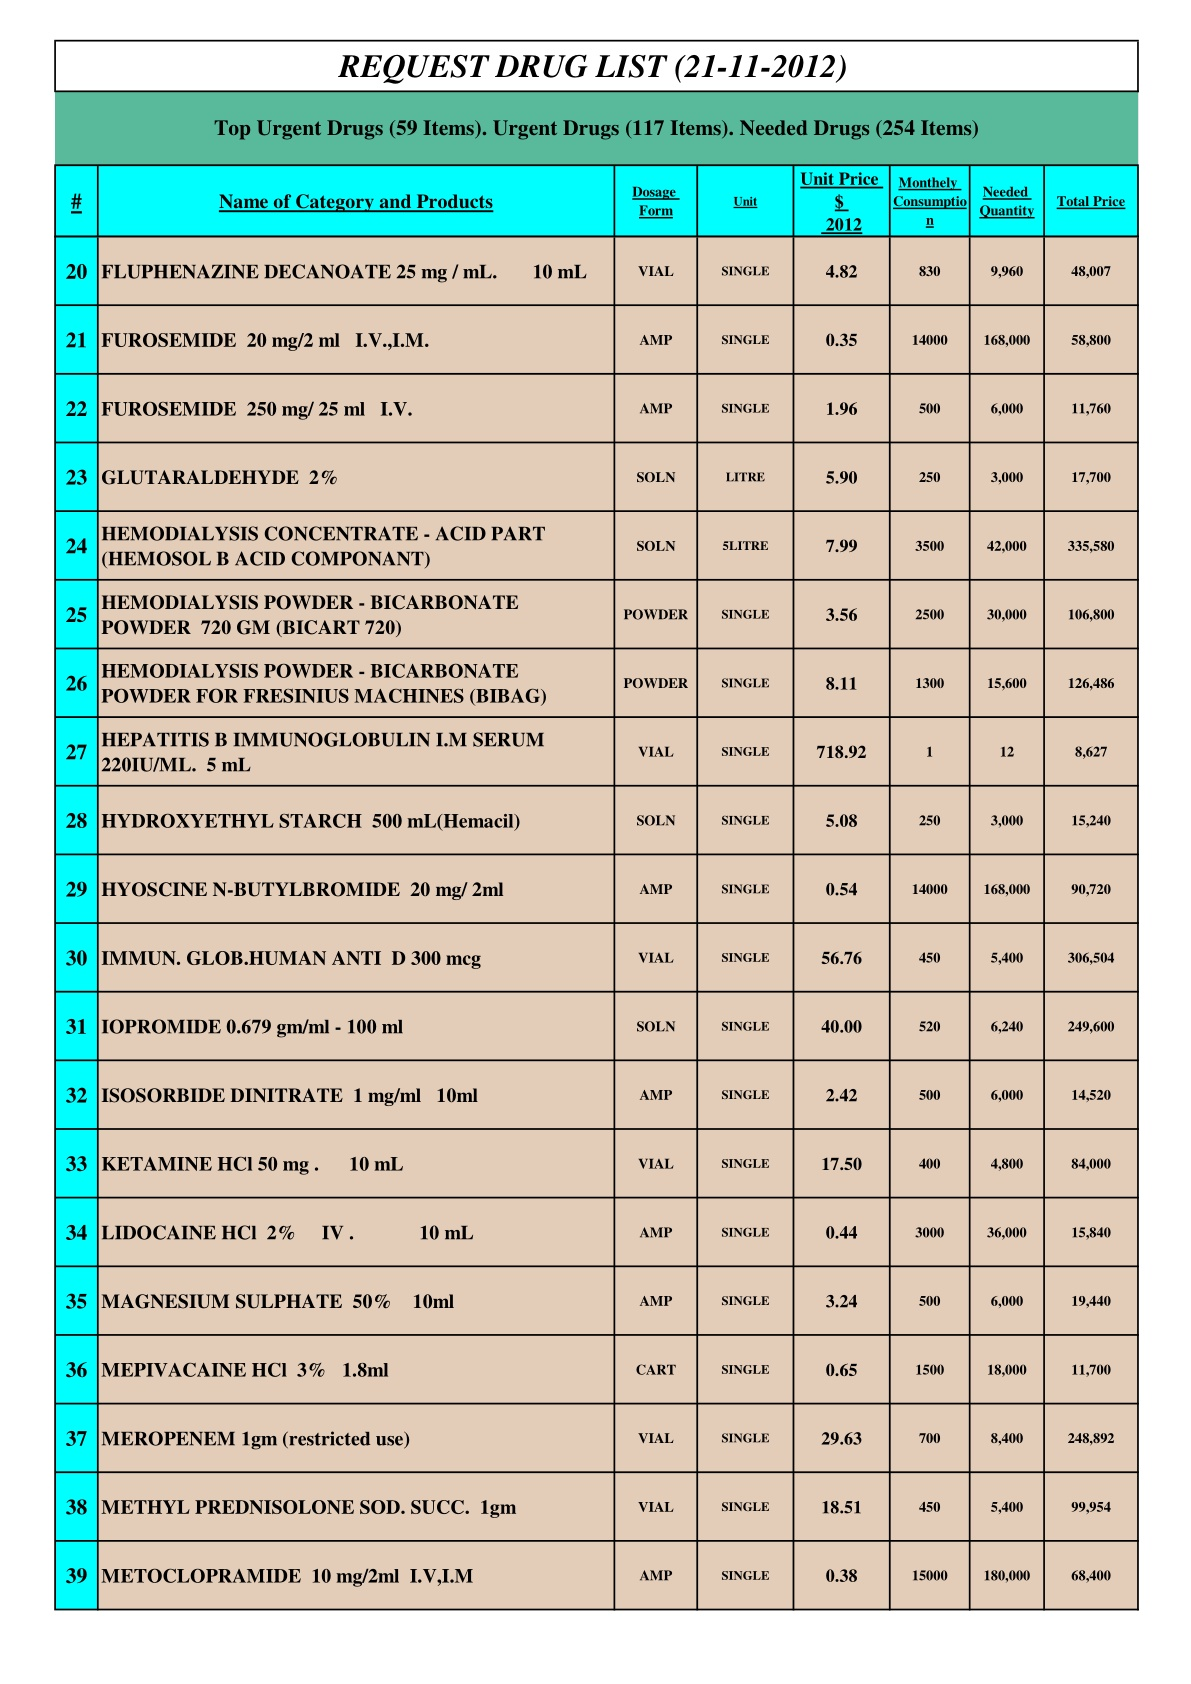merged_cells: (52, 39, 1139, 1611)
